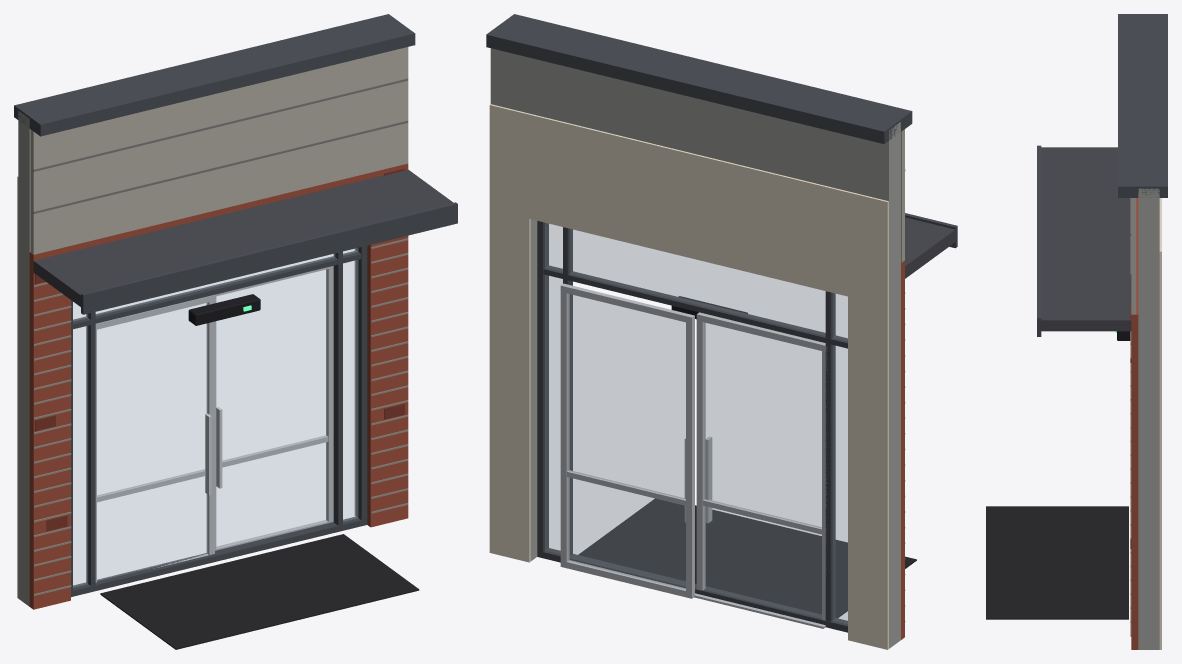
File: Mart_Wall_Door_Slide_4m.glb
3 renders of one model, left to right at view 1: azimuth 30°, elevation 25°; view 2: azimuth 150°, elevation 25°; view 3: azimuth 270°, elevation 25°, orthographic. The views are drawn at different scales.
Visible parts, largest first — view 1: Mart_Wall_Door_Slide_4m, Mart_Wall_Door_Slide_4m_Leaf_L, Mart_Wall_Door_Slide_4m_Leaf_R; view 2: Mart_Wall_Door_Slide_4m, Mart_Wall_Door_Slide_4m_Leaf_R, Mart_Wall_Door_Slide_4m_Leaf_L; view 3: Mart_Wall_Door_Slide_4m.
Part boxes in pixels (x1=…): Mart_Wall_Door_Slide_4m: x1=14, y1=14, x2=457, y2=649; Mart_Wall_Door_Slide_4m_Leaf_L: x1=95, y1=295, x2=214, y2=582; Mart_Wall_Door_Slide_4m_Leaf_R: x1=215, y1=266, x2=333, y2=550; Mart_Wall_Door_Slide_4m: x1=486, y1=14, x2=957, y2=649; Mart_Wall_Door_Slide_4m_Leaf_R: x1=560, y1=283, x2=694, y2=598; Mart_Wall_Door_Slide_4m_Leaf_L: x1=696, y1=312, x2=827, y2=620; Mart_Wall_Door_Slide_4m: x1=986, y1=14, x2=1167, y2=649.
Size of the model in its own units: 4 by 5 by 1.78.
2 materials, 1 textured.
